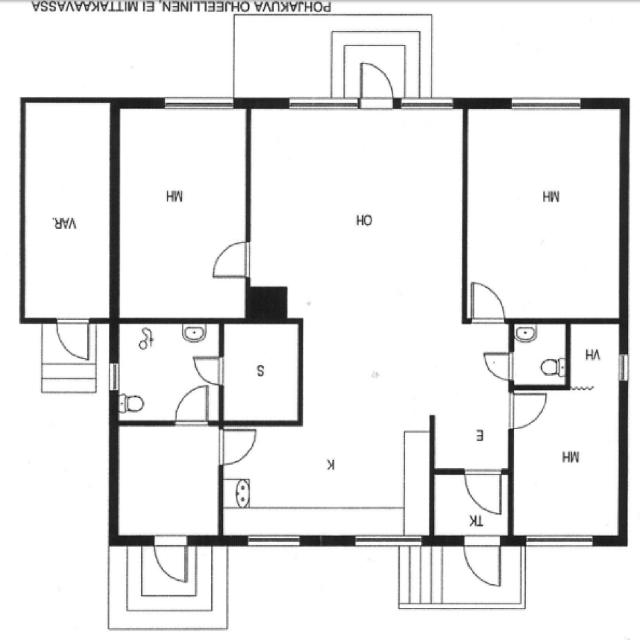door: (110, 322, 225, 423), (180, 347, 222, 426), (459, 532, 504, 593), (204, 234, 259, 283), (147, 533, 191, 591), (463, 278, 511, 328), (50, 314, 94, 364), (355, 60, 398, 111), (216, 422, 260, 467), (465, 466, 505, 513), (507, 389, 550, 432), (172, 382, 210, 426), (188, 351, 229, 388), (478, 349, 517, 384)
window: (156, 89, 239, 115), (282, 90, 364, 116), (347, 528, 427, 554), (518, 529, 601, 554), (505, 91, 587, 116), (238, 530, 308, 554), (394, 92, 460, 115), (104, 359, 122, 395), (616, 349, 632, 387)
zone: (245, 99, 468, 322), (464, 101, 625, 318), (113, 100, 252, 316), (22, 98, 114, 321), (512, 380, 622, 539), (111, 424, 222, 540), (111, 321, 224, 420), (222, 320, 301, 424), (433, 472, 513, 539), (569, 320, 626, 388), (513, 320, 566, 390), (149, 533, 194, 595)
